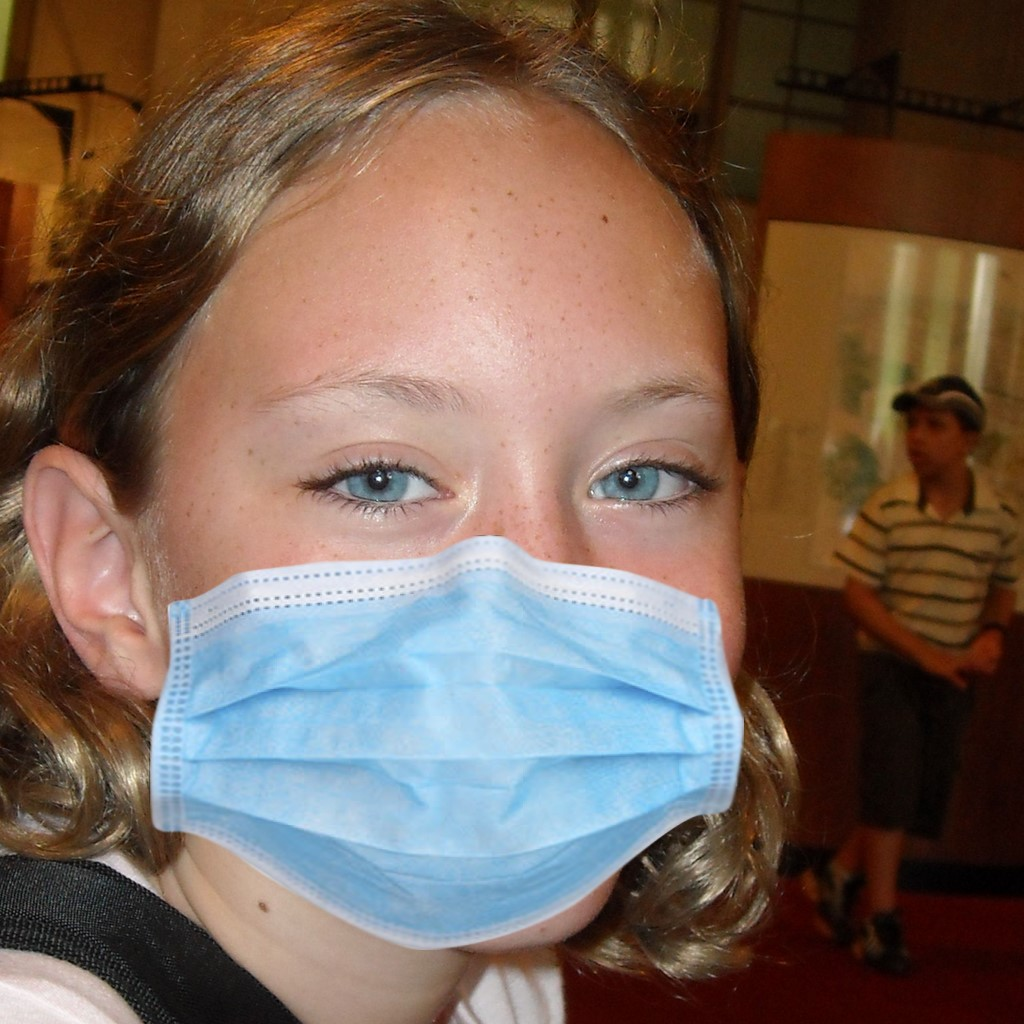con_mascara: (116, 74, 761, 958)
